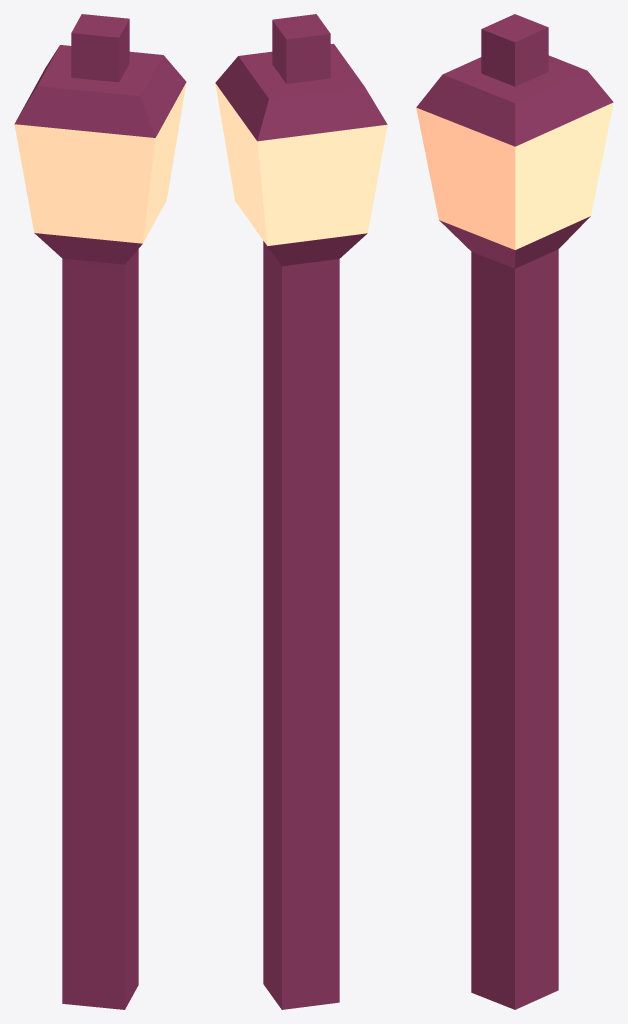
The model's file is lantern00.fbx.
3 views of the same model, side by side, from view 1: azimuth 30°, elevation 25°; view 2: azimuth 150°, elevation 25°; view 3: azimuth 270°, elevation 25° (orthographic).
Parts seen in each view (by area): view 1: tree02, tree02.001; view 2: tree02, tree02.001; view 3: tree02, tree02.001.
Boxes of the visible parts, x1,y1,x2,y2 form: tree02: (14,14,186,1009); tree02.001: (14,82,186,243); tree02: (215,14,387,1009); tree02.001: (215,83,387,245); tree02: (416,14,613,1009); tree02.001: (416,102,613,249).
Size of the model in its own units: 0.746 by 4 by 0.7446.
